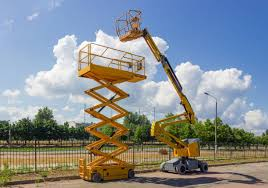Scissor Lift: (77, 43, 147, 182)
